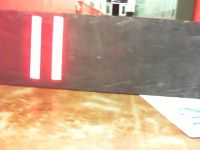switch: (51, 16, 64, 81), (28, 15, 41, 79)
